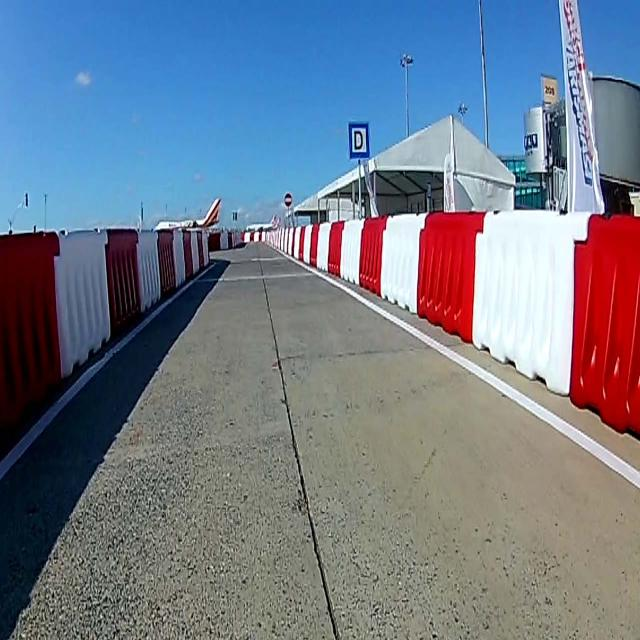durak: (348, 122, 370, 160)
girisyok: (283, 192, 293, 208)
